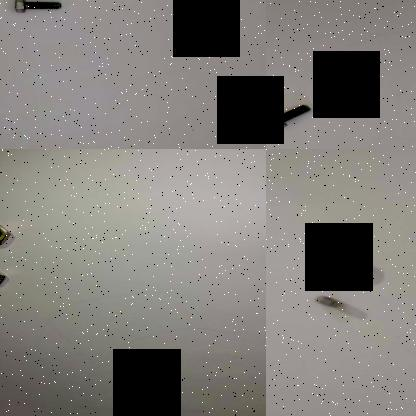Bolts: (266, 102, 318, 132), (10, 0, 64, 17)
NUTS: (310, 254, 366, 280), (307, 290, 344, 316), (0, 269, 10, 287)
